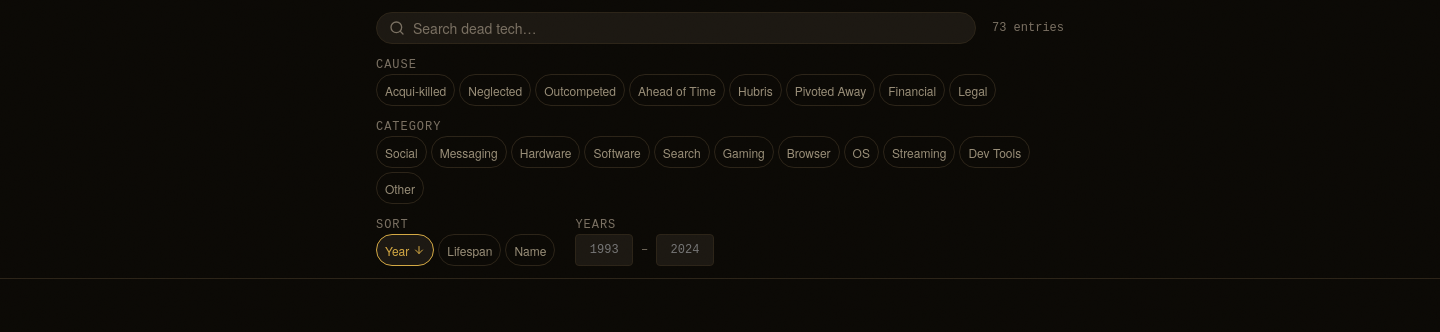
Scenario: FilterBar › shows 'Clear filters' button only when filters are active
The image size is (1440, 332).
Expected: the text "Clear filters" is not shown
Click the button "Neglected".
click(495, 90)  # box [459,74,531,106]
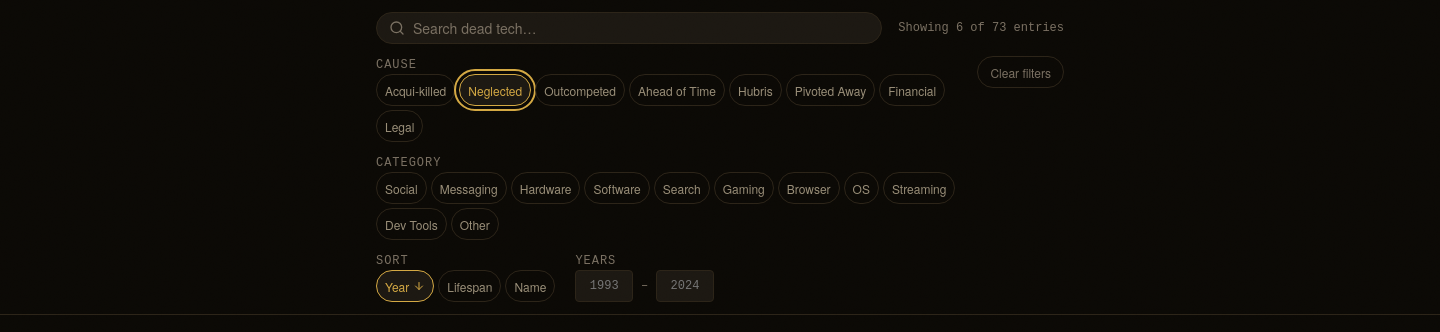
Expected: the button "Clear filters" is shown, [977,56,1064,88]
